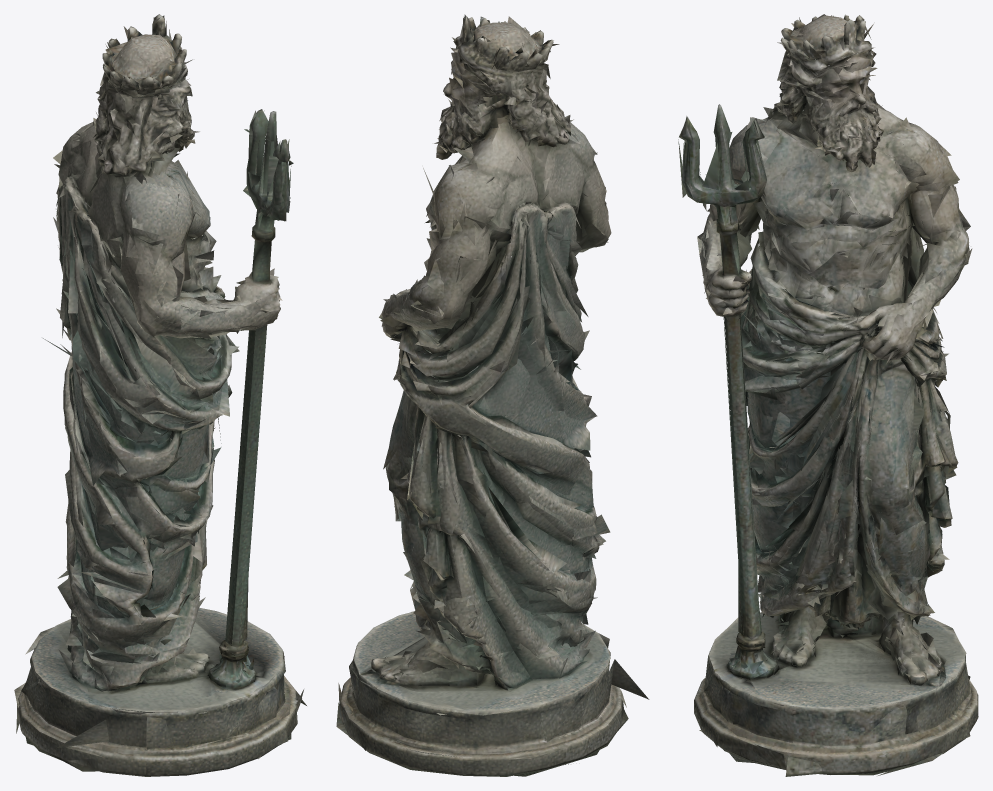
File: neptune-statue.glb
3 renders of one model, left to right at view 1: azimuth 30°, elevation 25°; view 2: azimuth 150°, elevation 25°; view 3: azimuth 270°, elevation 25°, orthographic.
Parts seen in each view (by area): view 1: neptune-statue, neptune-statue_lod, neptune-statue_far; view 2: neptune-statue, neptune-statue_lod, neptune-statue_far; view 3: neptune-statue, neptune-statue_lod, neptune-statue_far.
Part boxes in pixels (left/top/right/bottom): neptune-statue: left=17, top=14, right=297, bottom=776; neptune-statue_lod: left=14, top=15, right=306, bottom=776; neptune-statue_far: left=20, top=29, right=306, bottom=776; neptune-statue: left=339, top=15, right=622, bottom=775; neptune-statue_lod: left=336, top=14, right=628, bottom=776; neptune-statue_far: left=343, top=16, right=649, bottom=776; neptune-statue: left=679, top=15, right=978, bottom=774; neptune-statue_lod: left=678, top=14, right=978, bottom=776; neptune-statue_far: left=681, top=28, right=972, bottom=770.
Size of the model in its own units: 6.18 by 16.03 by 6.18.
Materials: 1 (1 with a texture image).
